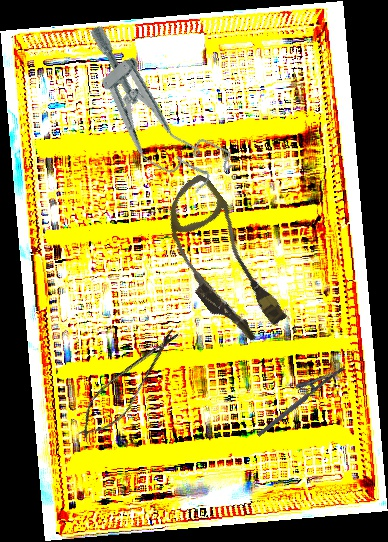Cannula: (139, 171, 304, 352)
Micro Scissor: (67, 317, 190, 450)
Needle Holder: (247, 354, 347, 438)
Speculum: (57, 13, 240, 210)
